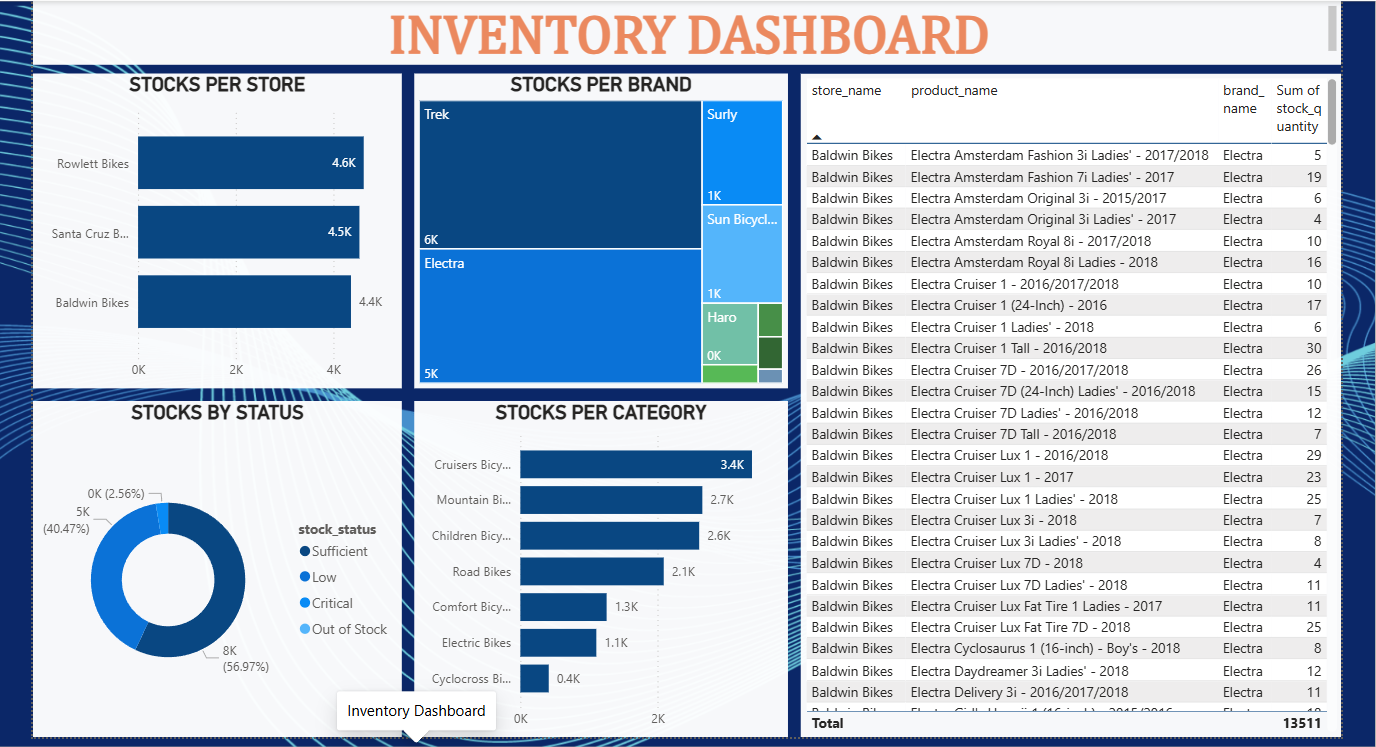

Layout of this report page (visuals, bound fields, positions):
{"tool":"powerbi","page":{"name":"Inventory Dashboard","canvas":[1280,720],"ordinal":1},"visuals":[{"type":"barChart","title":"STOCKS PER STORE","fields":{"Category":["vw_inventory_summary.store_name"],"Y":["Sum(vw_inventory_summary.stock_quantity)"]},"box":[0,70.9,360.7,308.2],"z":0},{"type":"donutChart","title":"STOCKS BY STATUS","fields":{"Category":["vw_inventory_summary.stock_status"],"Y":["Sum(vw_inventory_summary.stock_quantity)"]},"box":[0,391.3,360.7,328.9],"z":1000},{"type":"tableEx","fields":{"Values":["vw_inventory_summary.store_name","vw_inventory_summary.product_name","vw_inventory_summary.brand_name","Sum(vw_inventory_summary.stock_quantity)"]},"box":[750.8,70.9,529.5,649.3],"z":2000},{"type":"clusteredBarChart","title":"STOCKS PER CATEGORY","fields":{"Category":["vw_inventory_summary.category_name"],"Y":["Sum(vw_inventory_summary.stock_quantity)"]},"box":[373,391.3,365.6,328.9],"z":3000},{"type":"treemap","title":"STOCKS PER BRAND","fields":{"Group":["vw_inventory_summary.brand_name"],"Values":["Sum(vw_inventory_summary.stock_quantity)"]},"box":[373,70.9,365.6,308.2],"z":4000},{"type":"textbox","box":[0,0,1280.3,62.4],"z":5000}]}

Visuals, with their boxes in screenshot pixels (x1, y1, x2, y2):
"STOCKS PER STORE" barChart: 29 69 397 383
"STOCKS BY STATUS" donutChart: 29 396 397 732
tableEx - vw_inventory_summary.store_name x vw_inventory_summary.product_name: 795 69 1336 732
"STOCKS PER CATEGORY" clusteredBarChart: 409 396 783 732
"STOCKS PER BRAND" treemap: 409 69 783 383
textbox: 29 0 1336 60
